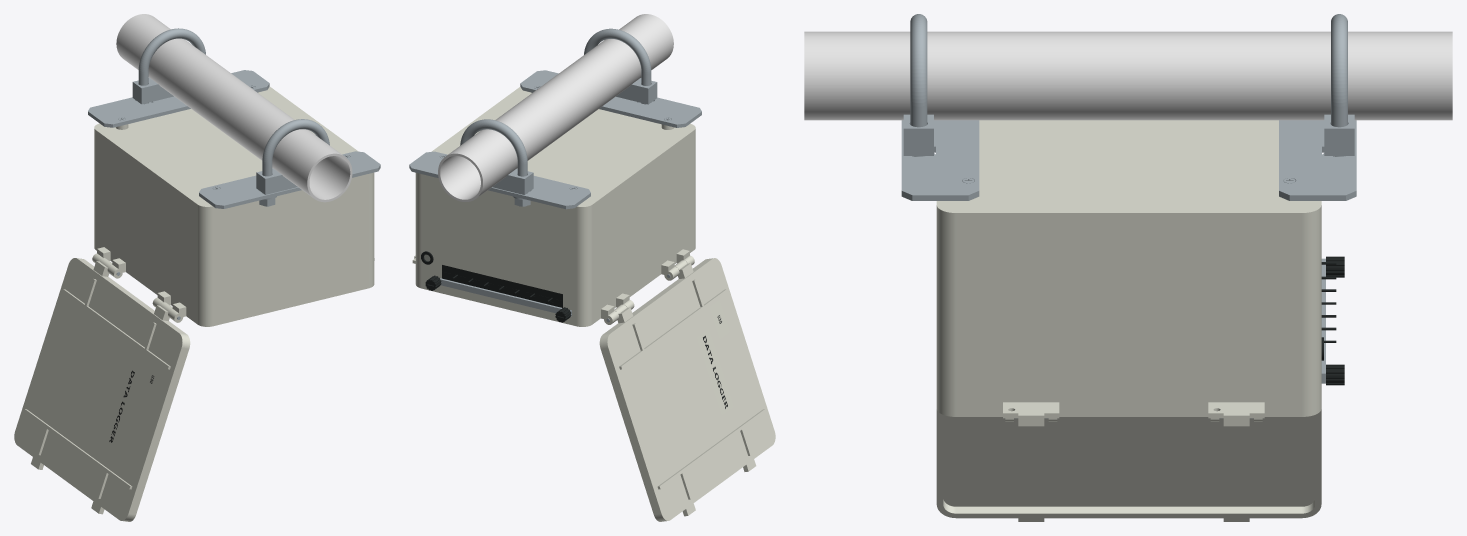
The model's file is onset_u30_nrc_static_interface_fit.glb.
3 views of the same model, side by side, from view 1: azimuth 30°, elevation 25°; view 2: azimuth 150°, elevation 25°; view 3: azimuth 270°, elevation 25° (orthographic). The views are drawn at different scales.
Parts seen in each view (by area): view 1: outer_case, hinged_door, selected_mast_fixture, mount_1_plate, mount_2_plate, device_text, mount_2_u_bolt, mount_1_u_bolt, mount_1_saddle, mount_2_saddle; view 2: outer_case, hinged_door, selected_mast_fixture, mount_2_plate, mount_1_plate, primary_split_rubber_channel, device_text, mount_1_u_bolt, mount_2_u_bolt, primary_channel_retaining_bar, mount_1_saddle, mount_2_saddle; view 3: outer_case, selected_mast_fixture, hinged_door, mount_2_plate, mount_1_plate, mount_2_u_bolt, mount_1_u_bolt, latch_clasp_1, latch_clasp_2, mount_2_saddle, mount_1_saddle.
Part boxes in pixels (bbox=[...]): outer_case: bbox=[92, 86, 374, 326]; hinged_door: bbox=[14, 258, 190, 521]; selected_mast_fixture: bbox=[116, 14, 352, 202]; mount_1_plate: bbox=[88, 70, 269, 127]; mount_2_plate: bbox=[199, 151, 380, 208]; device_text: bbox=[104, 364, 139, 449]; mount_2_u_bolt: bbox=[262, 119, 329, 206]; mount_1_u_bolt: bbox=[138, 28, 205, 104]; mount_1_saddle: bbox=[132, 77, 173, 104]; mount_2_saddle: bbox=[256, 168, 297, 194]; outer_case: bbox=[415, 87, 695, 326]; hinged_door: bbox=[599, 258, 775, 521]; selected_mast_fixture: bbox=[438, 14, 673, 201]; mount_2_plate: bbox=[520, 70, 701, 127]; mount_1_plate: bbox=[409, 151, 590, 209]; primary_split_rubber_channel: bbox=[442, 265, 562, 307]; device_text: bbox=[697, 329, 733, 414]; mount_1_u_bolt: bbox=[460, 119, 527, 206]; mount_2_u_bolt: bbox=[584, 28, 651, 104]; primary_channel_retaining_bar: bbox=[440, 278, 571, 316]; mount_1_saddle: bbox=[492, 168, 533, 194]; mount_2_saddle: bbox=[616, 78, 657, 104]; outer_case: bbox=[936, 120, 1321, 416]; selected_mast_fixture: bbox=[804, 31, 1452, 120]; hinged_door: bbox=[936, 409, 1321, 521]; mount_2_plate: bbox=[901, 120, 979, 200]; mount_1_plate: bbox=[1279, 120, 1356, 200]; mount_2_u_bolt: bbox=[910, 14, 927, 156]; mount_1_u_bolt: bbox=[1331, 14, 1347, 156]; latch_clasp_1: bbox=[1208, 402, 1264, 426]; latch_clasp_2: bbox=[1003, 402, 1059, 426]; mount_2_saddle: bbox=[903, 114, 933, 155]; mount_1_saddle: bbox=[1324, 114, 1354, 155].
Size of the model in its own units: 0.2489 by 0.3256 by 0.3.
23 materials, 5 textured.
